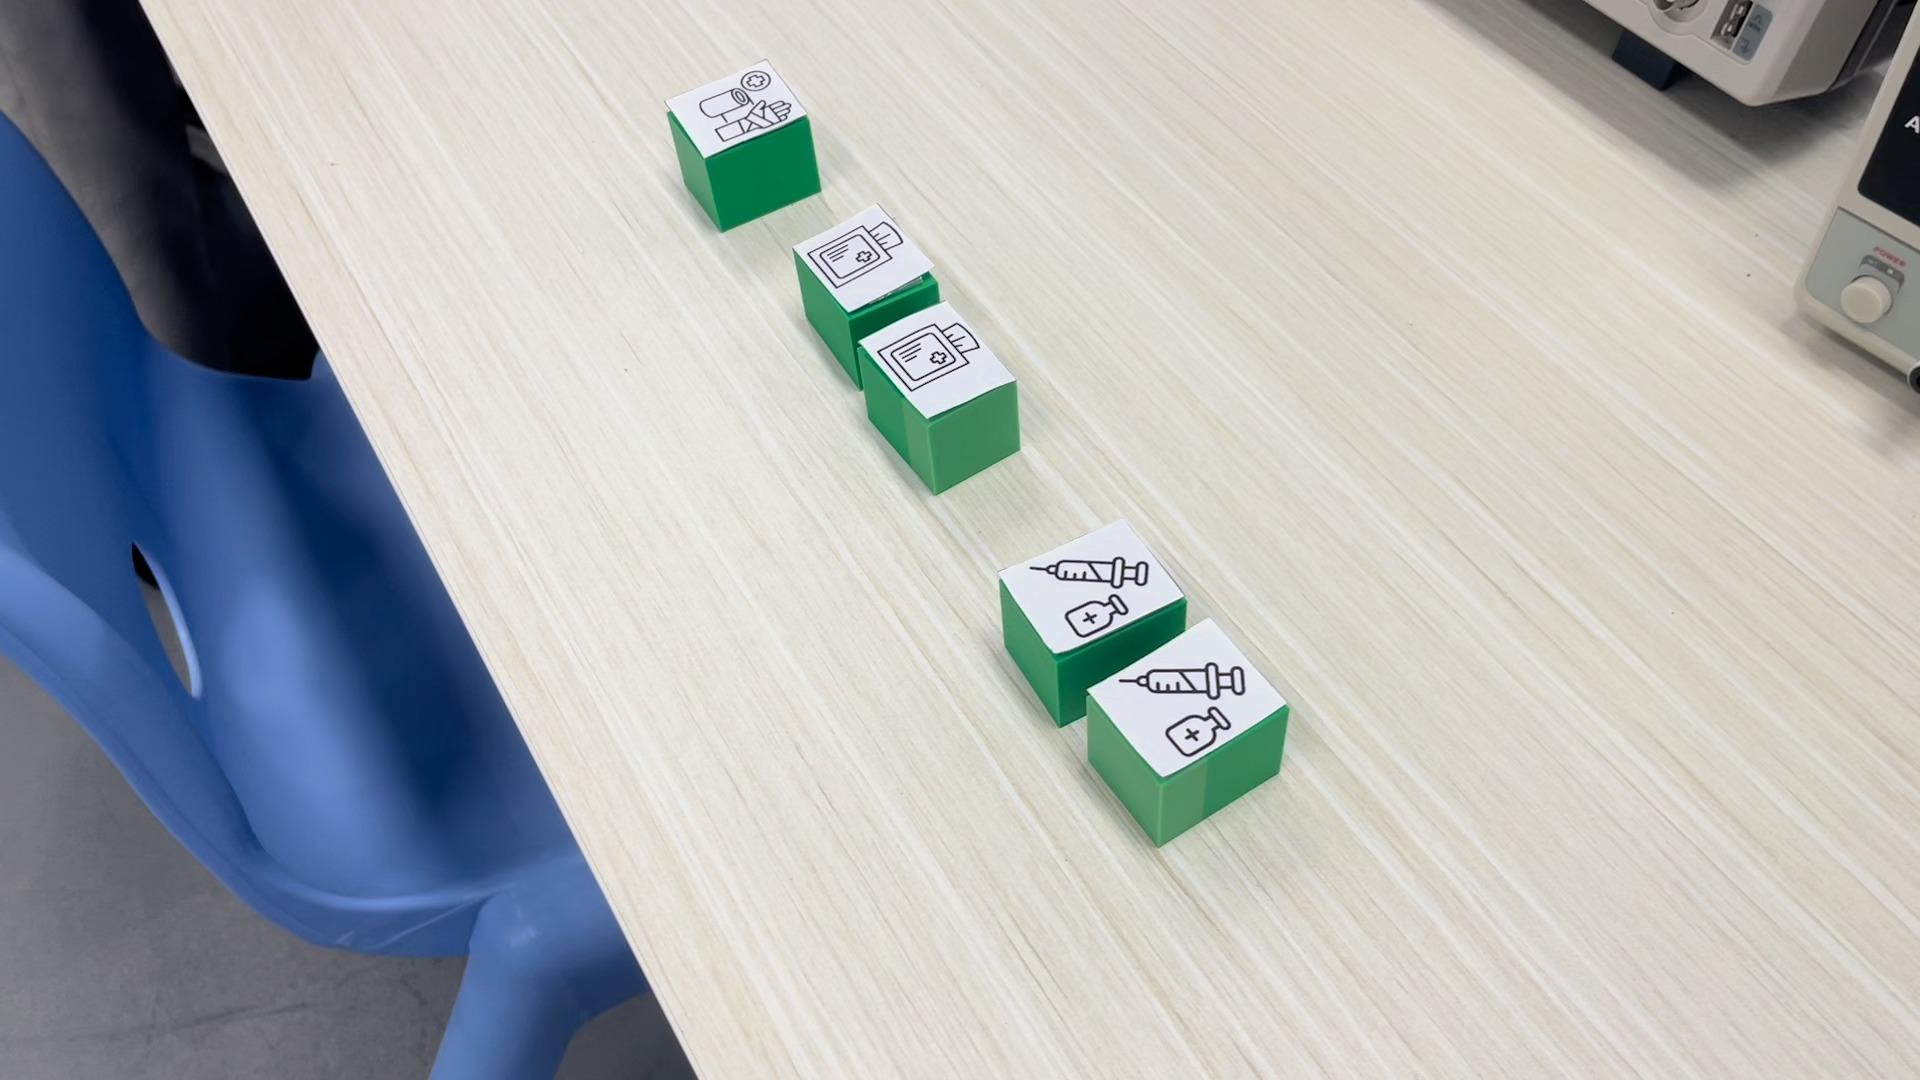Bandages: (662, 61, 821, 232)
Gauze: (857, 302, 1021, 500), (793, 203, 939, 322)
antiseptic cream: (1086, 618, 1291, 845), (1000, 517, 1185, 658)
